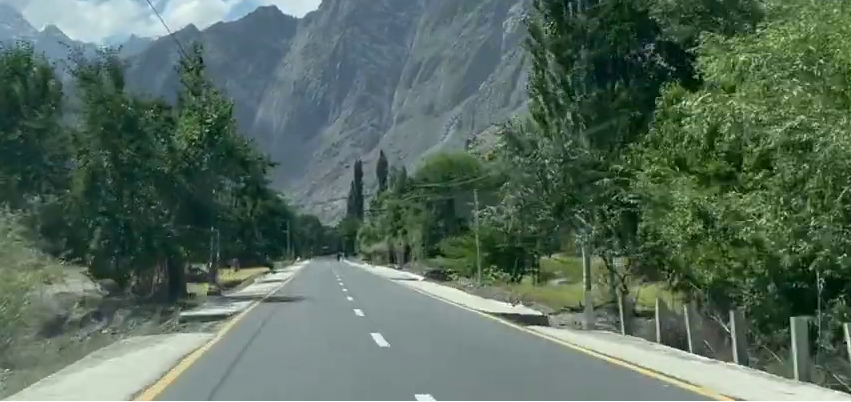left: (262, 265, 488, 402)
